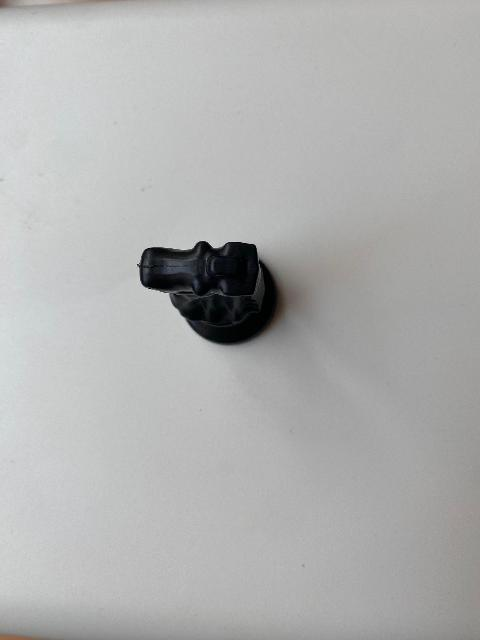black-knight: (137, 240, 278, 344)
